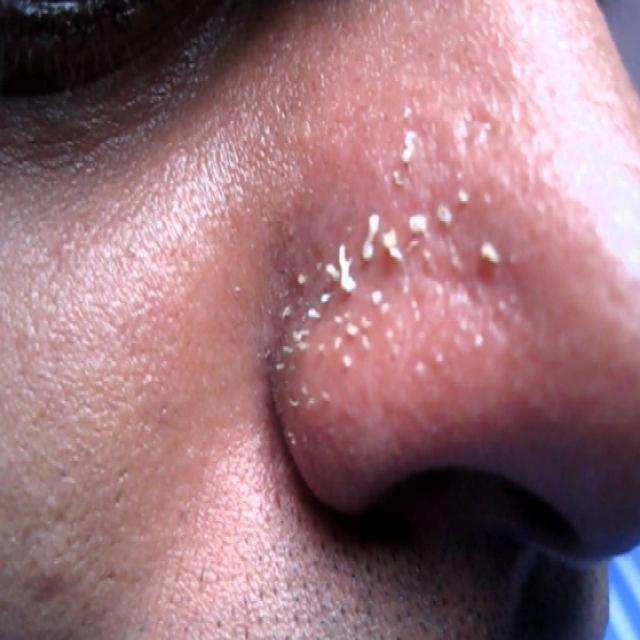Acne: (254, 87, 588, 474)
